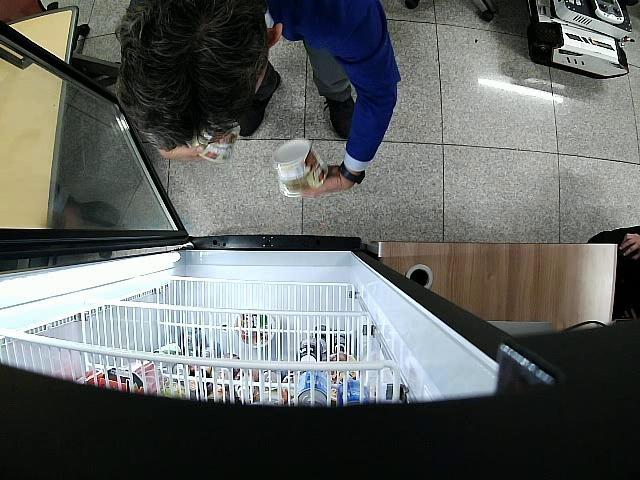03_chapagetti_L: (272, 139, 328, 197), (193, 128, 240, 163)
